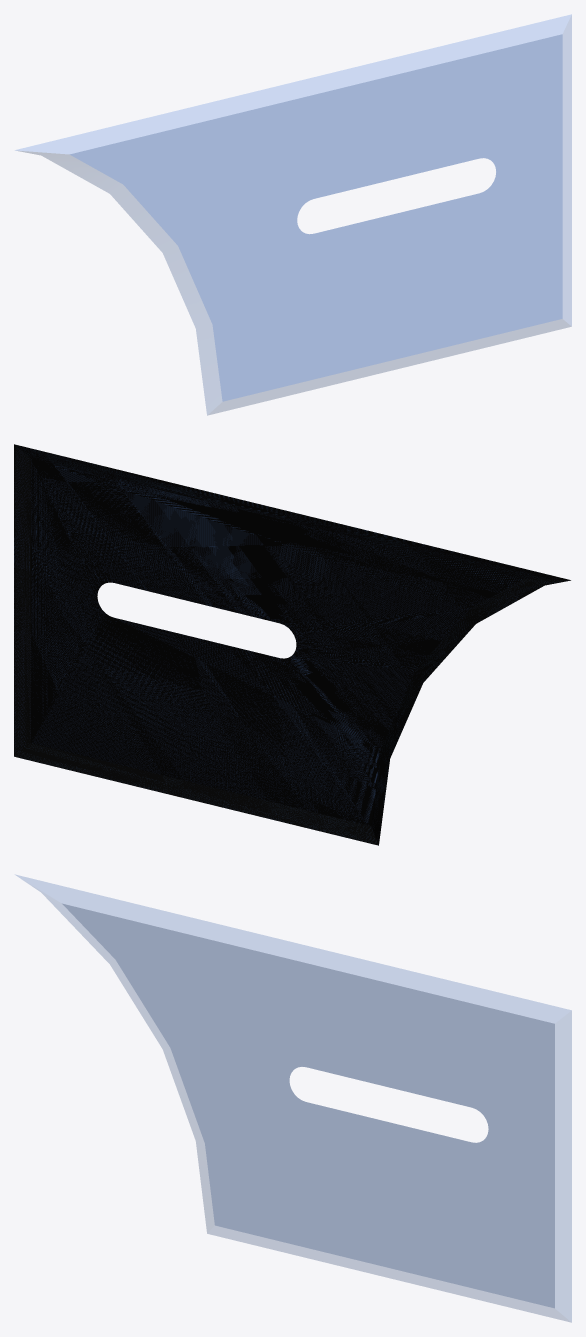
Rendered from original-18.obj.
3 renders of one model, top to bottom at view 1: azimuth 30°, elevation 25°; view 2: azimuth 150°, elevation 25°; view 3: azimuth 330°, elevation 25°, orthographic.
Parts seen in each view (by area): view 1: 3dw.7bdffa69c49eb1d7bf653fdedcac4c5b#4/Model/mesh9/mesh9-geometr; view 2: 3dw.7bdffa69c49eb1d7bf653fdedcac4c5b#4/Model/mesh9/mesh9-geometr; view 3: 3dw.7bdffa69c49eb1d7bf653fdedcac4c5b#4/Model/mesh9/mesh9-geometr.
Boxes of the visible parts, box(x1,y1,x2,y2) form: 3dw.7bdffa69c49eb1d7bf653fdedcac4c5b#4/Model/mesh9/mesh9-geometr: box(15, 14, 571, 415); 3dw.7bdffa69c49eb1d7bf653fdedcac4c5b#4/Model/mesh9/mesh9-geometr: box(14, 444, 570, 845); 3dw.7bdffa69c49eb1d7bf653fdedcac4c5b#4/Model/mesh9/mesh9-geometr: box(16, 875, 571, 1322).
Bounding box in the file's own units: 0.3656 × 0.1956 × 0.00435.
